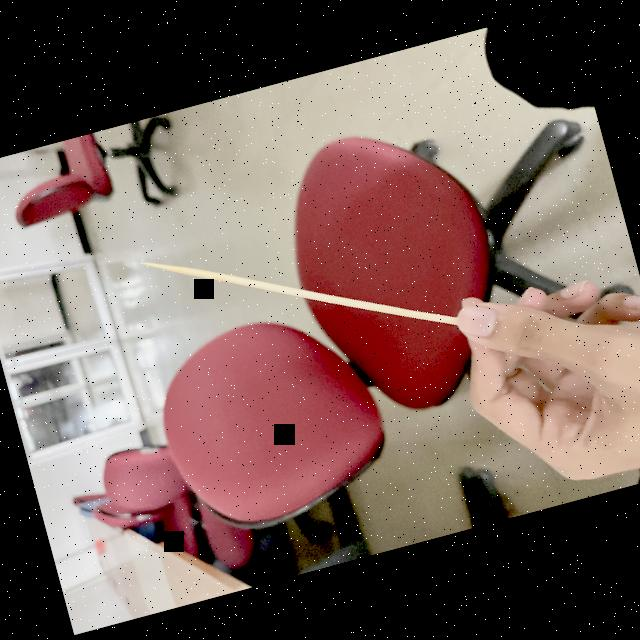stick: (132, 181, 463, 401)
